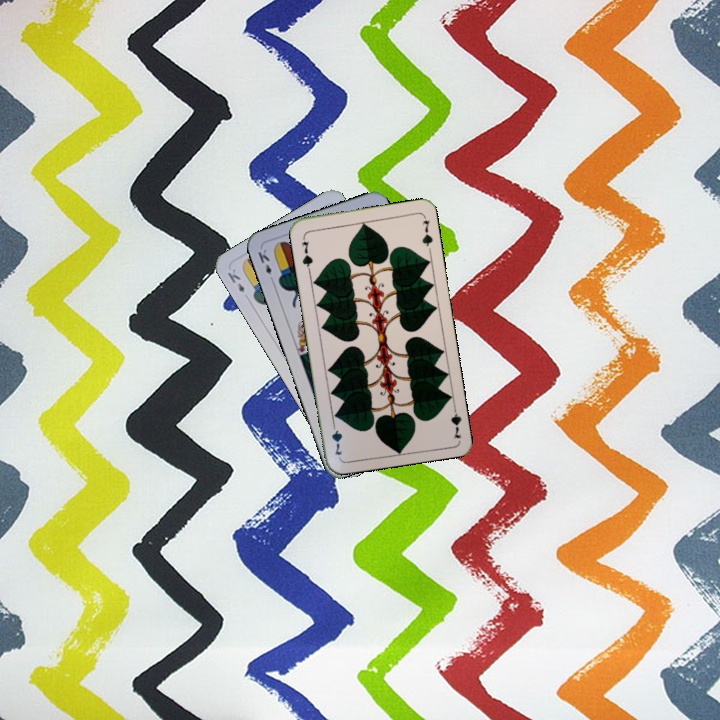EK: (254, 245, 277, 285), (223, 264, 247, 295)
G7: (298, 232, 316, 272), (447, 399, 464, 441)
